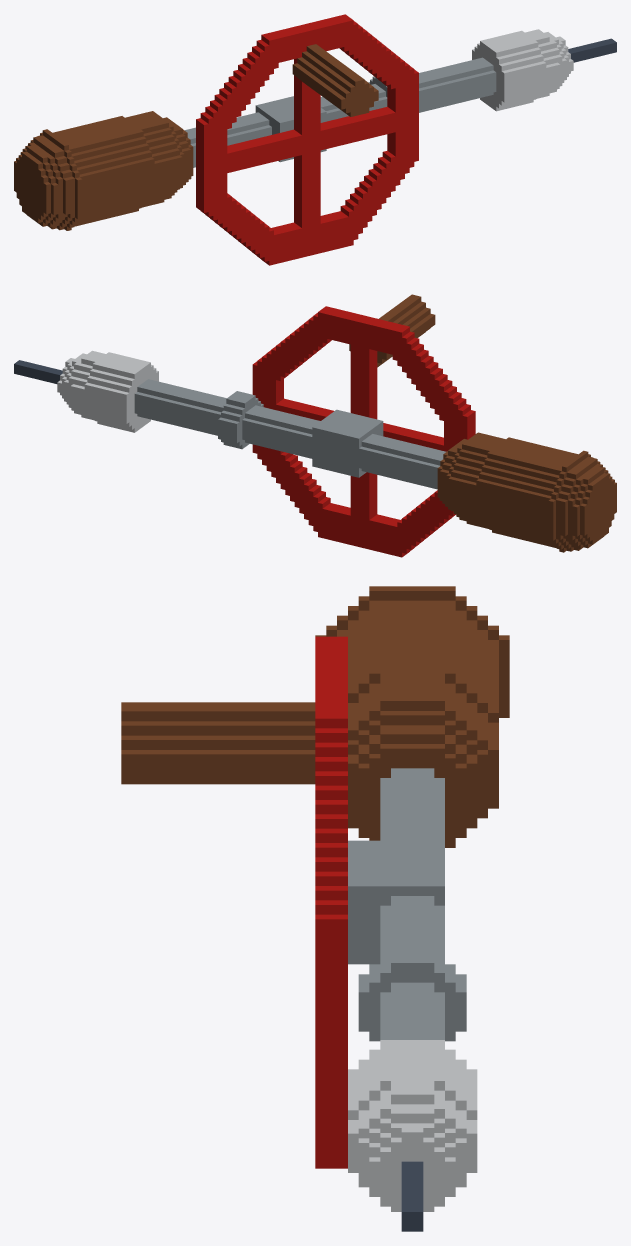
Rendered from hand_drill.glb.
The picture shows the model from 3 angles, top to bottom: view 1: azimuth 30°, elevation 25°; view 2: azimuth 150°, elevation 25°; view 3: azimuth 270°, elevation 25°; orthographic projection. The views are drawn at different scales.
Visible parts, largest first — view 1: hand_drill:compound; view 2: hand_drill:compound; view 3: hand_drill:compound.
Part boxes in pixels (x1,y1,x2,y2): hand_drill:compound: [14, 14, 616, 265]; hand_drill:compound: [14, 294, 616, 557]; hand_drill:compound: [121, 586, 509, 1231].
Bounding box in the file's own units: 0.25 × 0.092 × 0.072.
